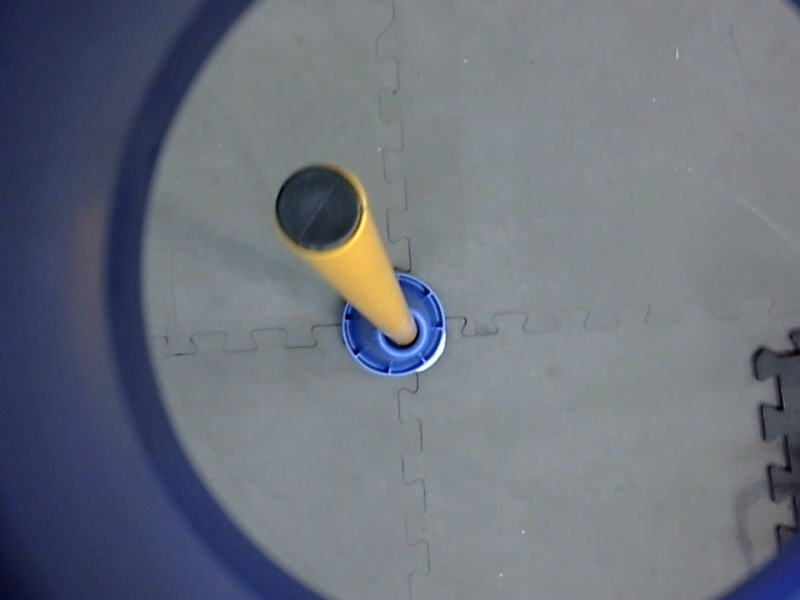tip: (268, 158, 372, 262)
